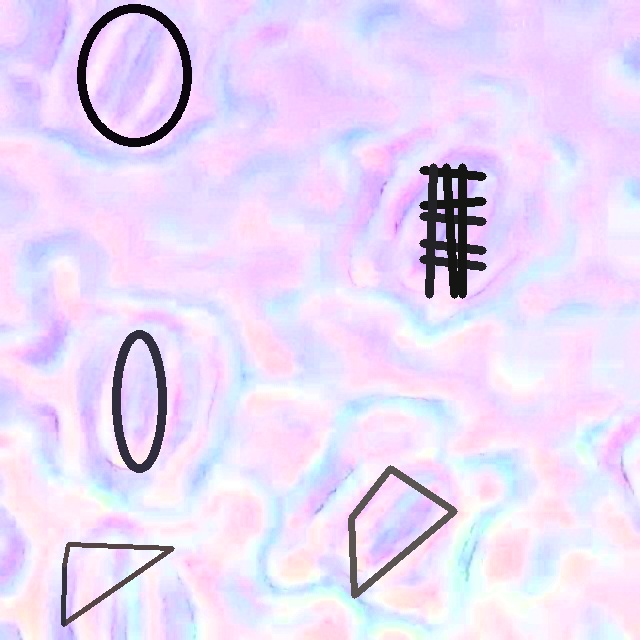open: (75, 3, 192, 146), (348, 465, 457, 598), (62, 543, 173, 625), (419, 163, 486, 298), (110, 329, 167, 473)
